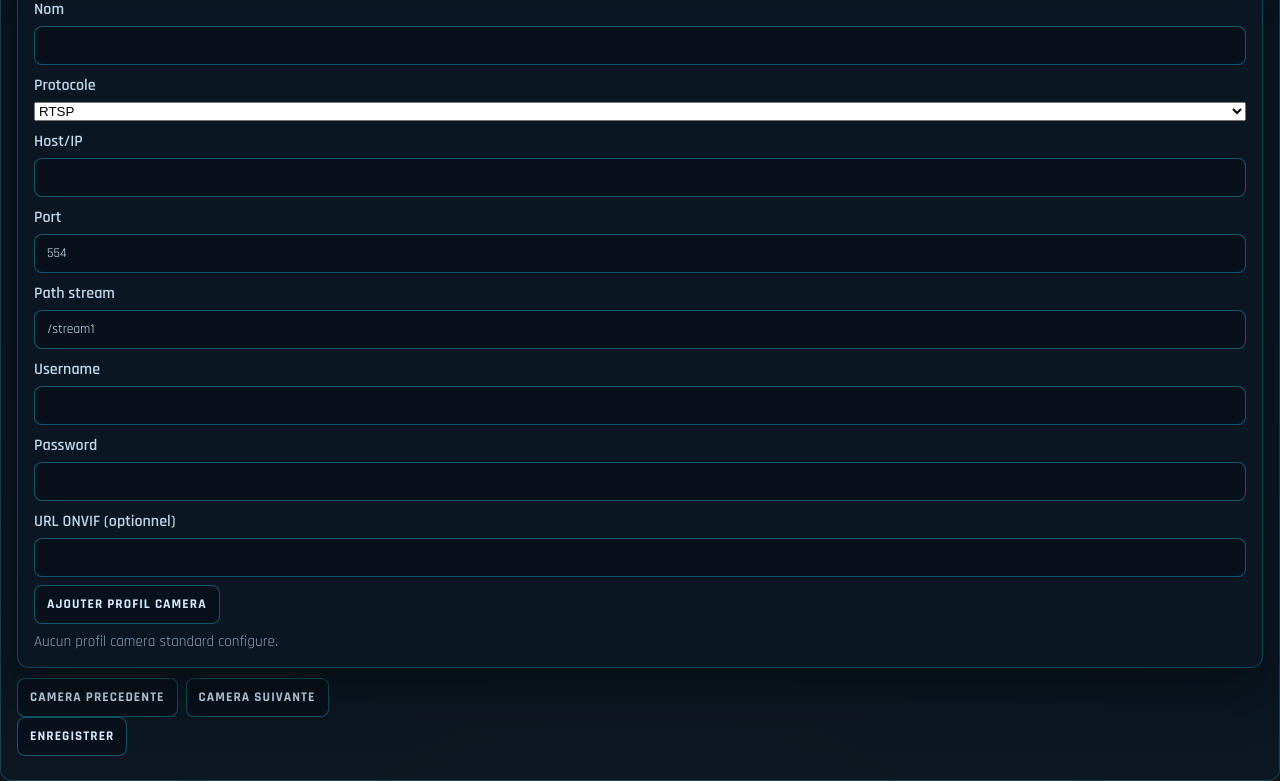
Test: ConfigPanel › rejects an invalid camera profile before saving
(page scrolled)
Step 1. Click the button "Ajouter profil camera" → (127,604), box [34,585,220,624]
(page scrolled)
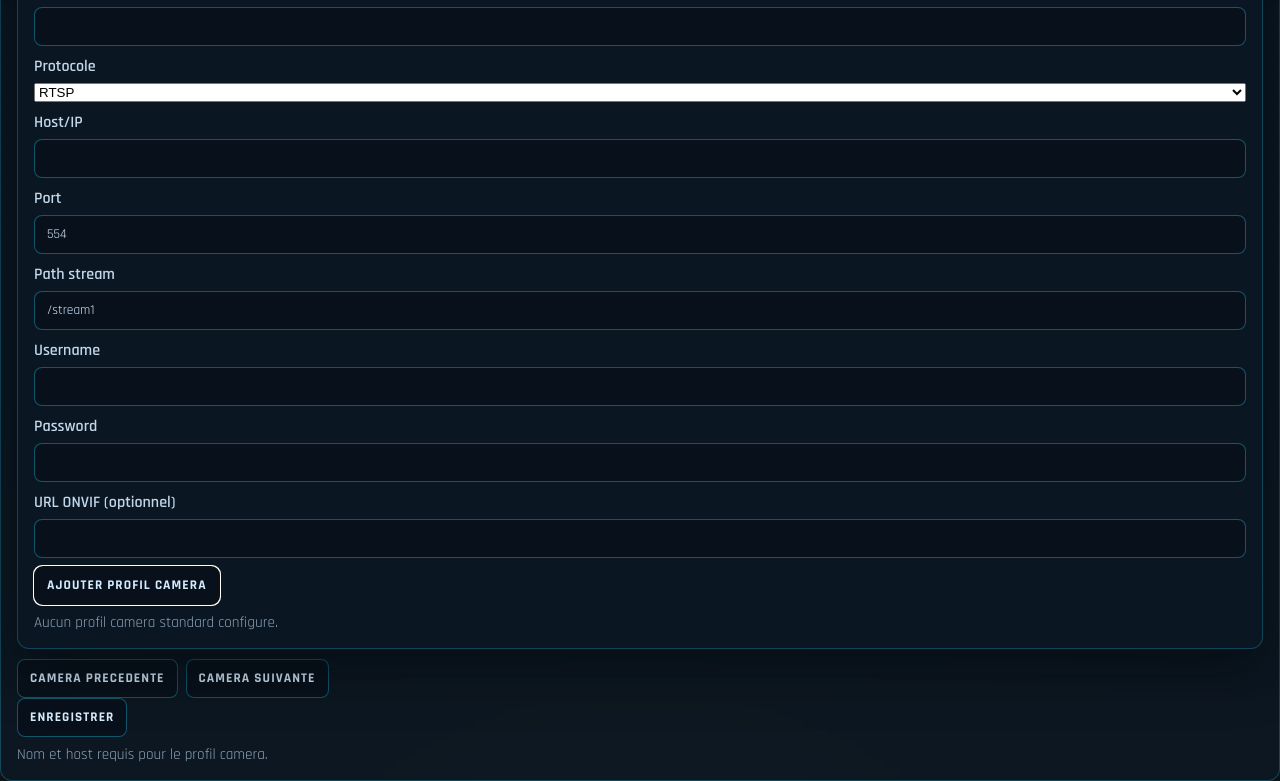
Now the text "Nom et host requis pour le profil camera." is shown, box [17,745,268,764]
